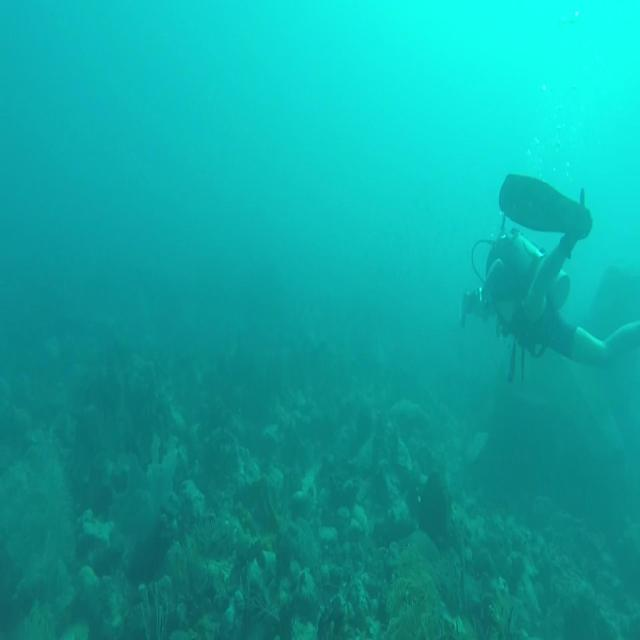human: (460, 172, 639, 382)
